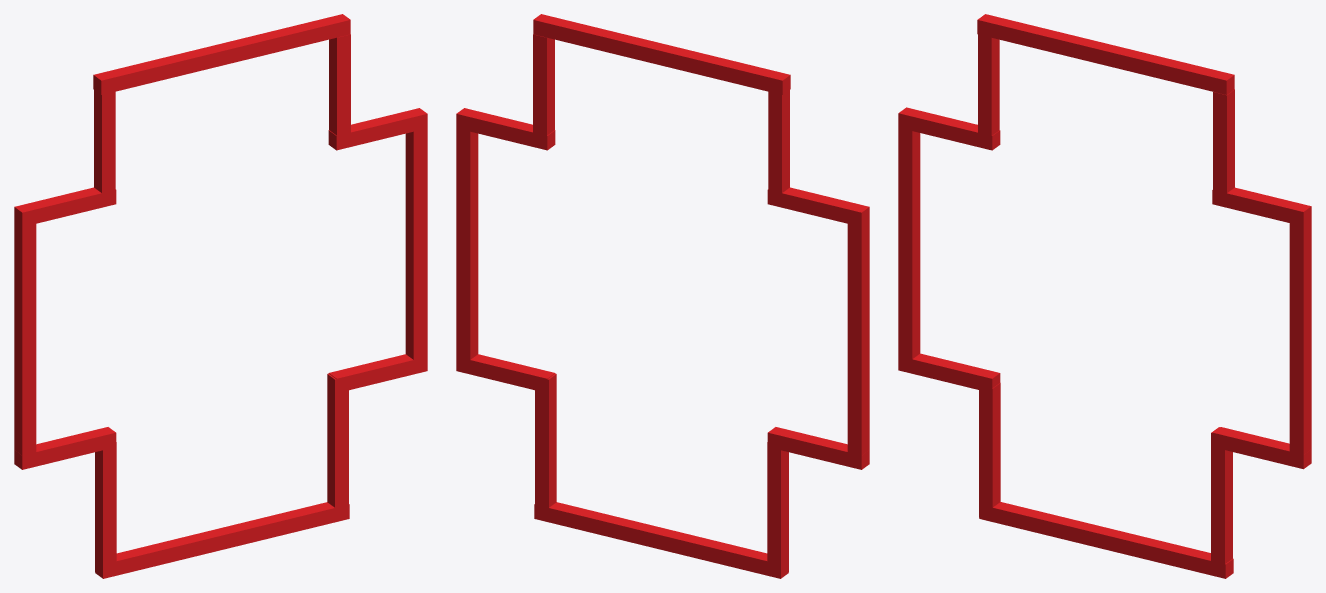
File: highlight cross.fbx
3 views of the same model, side by side, from view 1: azimuth 30°, elevation 25°; view 2: azimuth 150°, elevation 25°; view 3: azimuth 330°, elevation 25° (orthographic).
Visible parts, largest first — view 1: root (×12); view 2: root (×12); view 3: root (×12).
Part boxes in pixels (x1,y1,x2,y2): root (×12): (14,14,427,578); root (×12): (456,14,869,578); root (×12): (898,14,1311,578).
Bounding box in the file's own units: 0.1001 × 0.1177 × 0.00342.
Materials: 3 (3 with a texture image).
